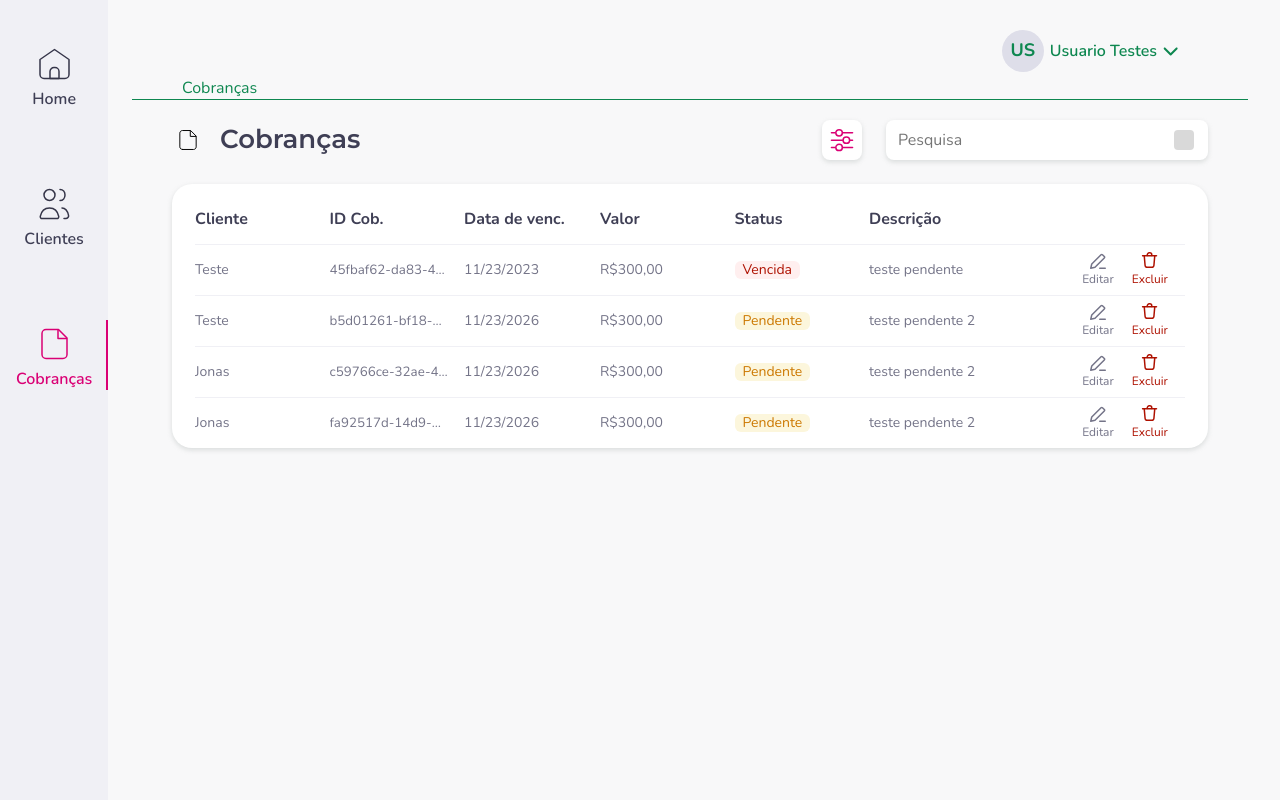
it: App › should be able to navigate to client page
Click the link with test id "clientLink" in the row of "11/23/2023" at (212, 270), box [195,261,229,279]
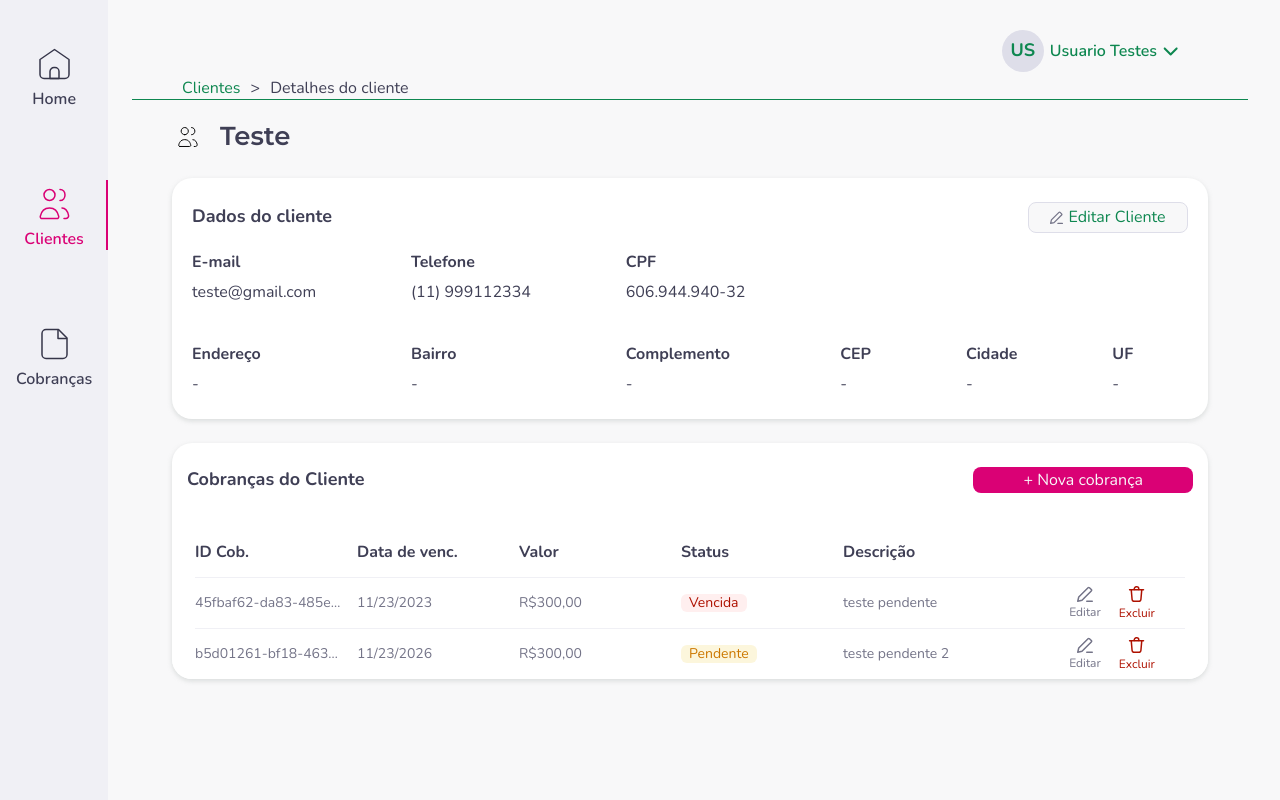
Expected: the element that starts with "45fbaf62-da83-485e-9e55-f185498c01b5" is shown, [195,578,1185,629]
Result: the heading "Teste" is shown at [220,120,290,154]
Open "/clients"
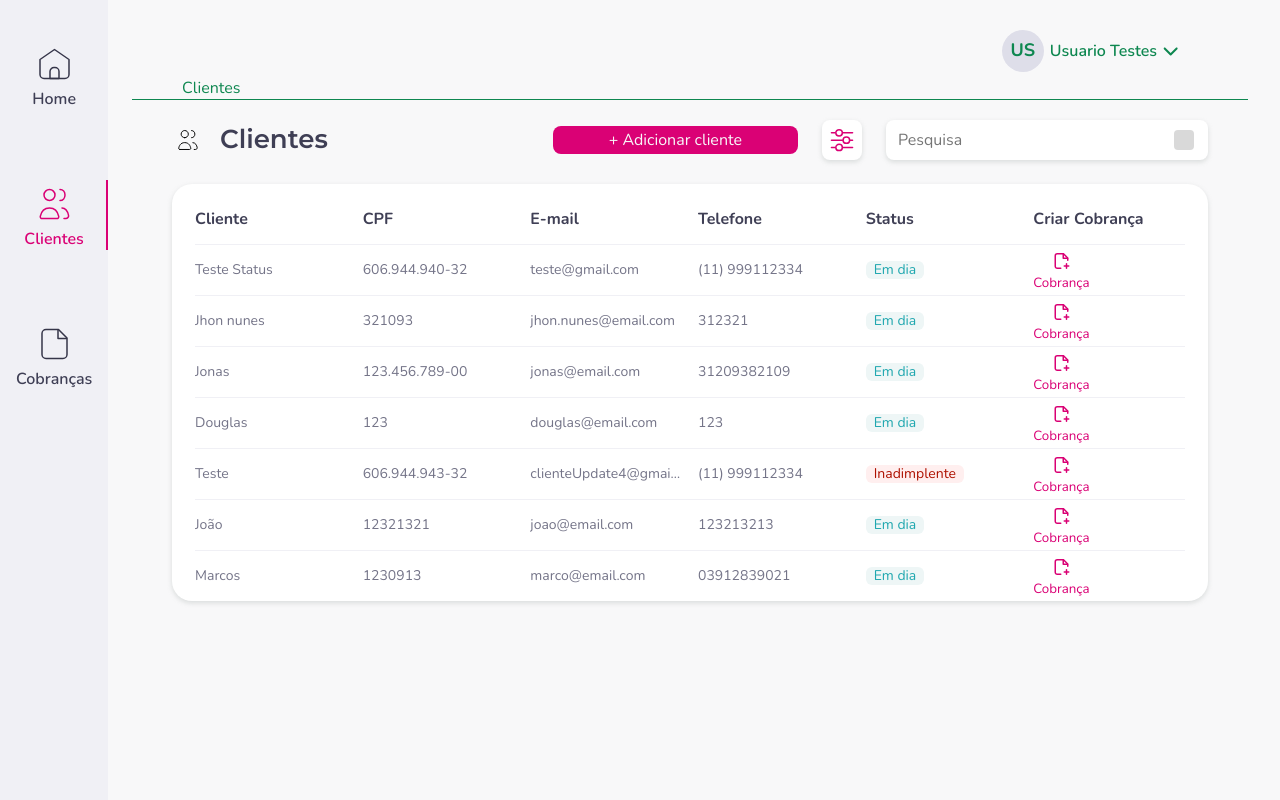
Click the link with test id "clientLink" showing "Teste Status" at (234, 270), box [195,261,273,279]
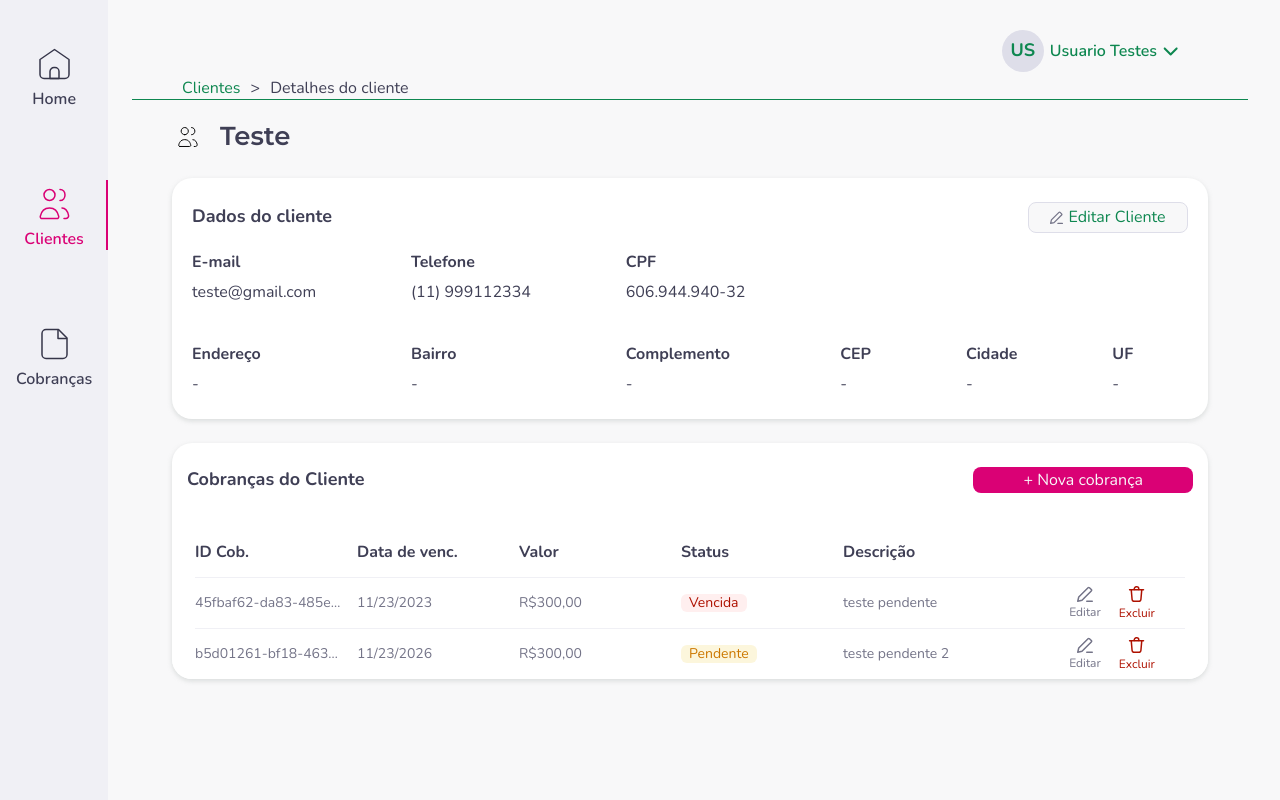
Result: the element that starts with "45fbaf62-da83-485e-9e55-f185498c01b5" is shown at [195,578,1185,629]
Result: the heading "Teste" is shown at [220,120,290,154]
